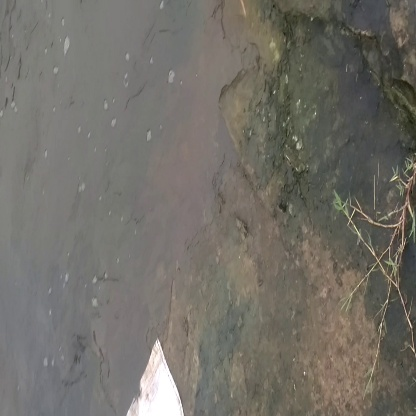branch: (342, 144, 410, 353)
